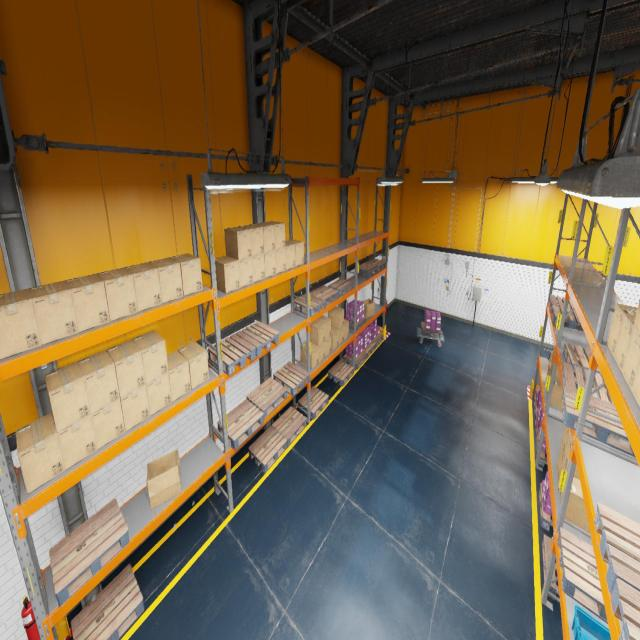box: (15, 412, 65, 494), (44, 362, 90, 432), (28, 281, 78, 345), (0, 288, 41, 359), (77, 350, 120, 414), (64, 274, 110, 332), (106, 340, 146, 398), (96, 268, 138, 321), (57, 415, 97, 470), (146, 449, 181, 510), (132, 330, 168, 383), (124, 262, 162, 312), (560, 476, 590, 534), (91, 399, 125, 450), (608, 304, 638, 358), (148, 258, 183, 303), (120, 384, 150, 432), (178, 342, 208, 389), (170, 253, 202, 296), (614, 314, 636, 373), (167, 350, 191, 402), (622, 327, 640, 392), (146, 372, 172, 416), (215, 256, 240, 293), (224, 227, 252, 260), (558, 457, 578, 498), (238, 225, 264, 256), (564, 429, 579, 479), (252, 223, 276, 252), (262, 221, 285, 249), (286, 239, 304, 266), (301, 342, 318, 369), (239, 256, 253, 288), (550, 378, 563, 410), (252, 253, 265, 283), (310, 320, 325, 345), (328, 306, 344, 329), (632, 361, 640, 406), (317, 315, 331, 340), (264, 250, 276, 278), (556, 443, 564, 481), (550, 349, 560, 379), (361, 298, 375, 318), (547, 370, 559, 393), (276, 247, 286, 274), (561, 426, 570, 455), (331, 325, 344, 345), (633, 299, 640, 335), (286, 242, 295, 270), (331, 327, 339, 350), (319, 341, 325, 363), (325, 336, 331, 357), (548, 350, 554, 369), (344, 320, 349, 340), (546, 362, 551, 381)
pallets: (49, 498, 129, 607), (71, 564, 144, 640), (562, 386, 635, 457), (557, 528, 608, 624), (594, 502, 640, 594), (217, 399, 264, 450), (562, 362, 614, 404), (208, 334, 255, 375), (610, 578, 640, 640), (249, 425, 287, 473), (247, 377, 287, 419), (236, 321, 279, 356), (563, 342, 602, 377), (272, 407, 307, 446), (274, 362, 310, 396), (542, 534, 559, 600), (298, 386, 329, 420), (551, 304, 583, 330), (294, 294, 326, 316), (539, 482, 553, 531), (328, 360, 354, 386), (310, 286, 339, 305), (548, 294, 574, 312), (328, 278, 353, 296), (343, 351, 367, 369), (536, 432, 547, 467), (421, 322, 442, 338), (344, 316, 366, 331), (355, 262, 378, 276), (365, 258, 386, 271), (362, 341, 376, 358), (370, 332, 384, 348), (534, 394, 540, 417), (535, 412, 539, 438)
